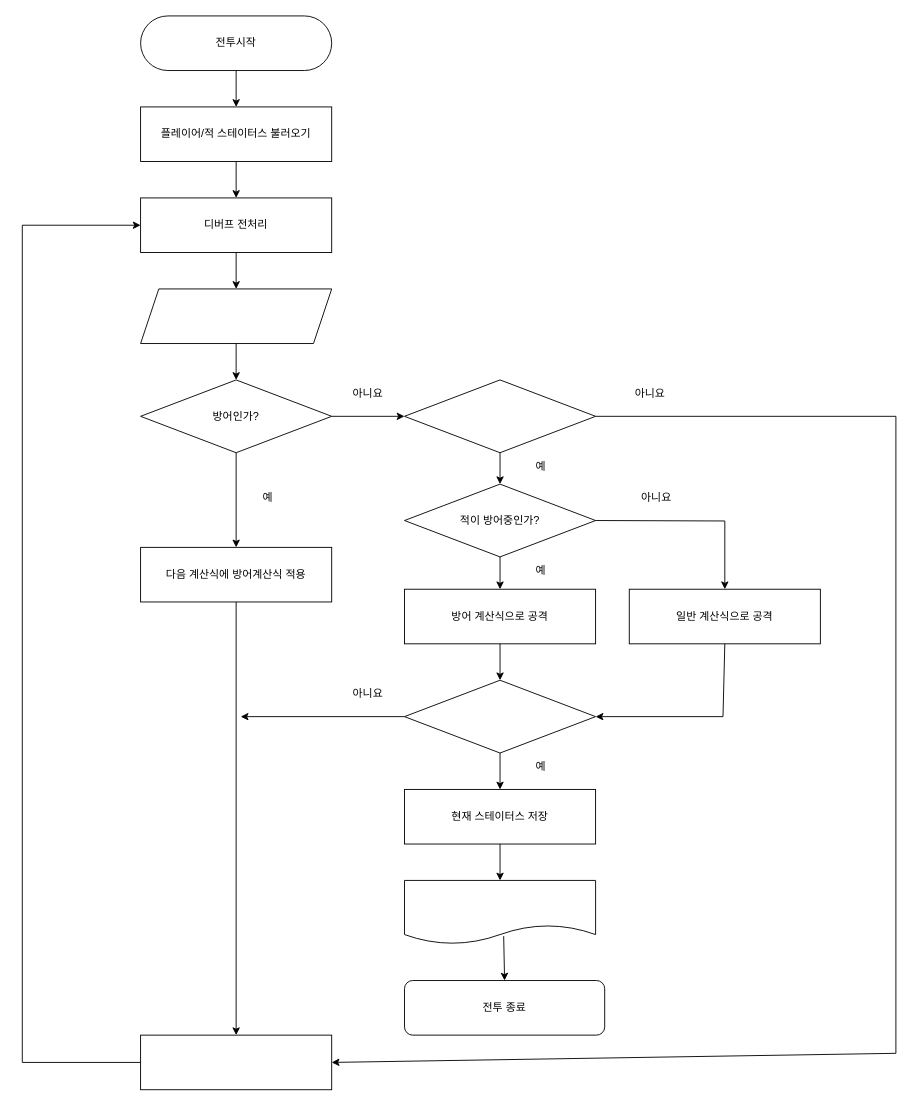
Image size: 919x1106. Some labels were removed from this diagram. Each missing label, with the box of its shape:
공격인가?: (404, 379, 596, 453)
적이 사망했는가: (404, 679, 596, 753)
전투선택지입력: (140, 288, 332, 344)
전투승리 메시지 출력: (404, 880, 596, 944)
차례를 마침: (140, 1034, 332, 1090)
